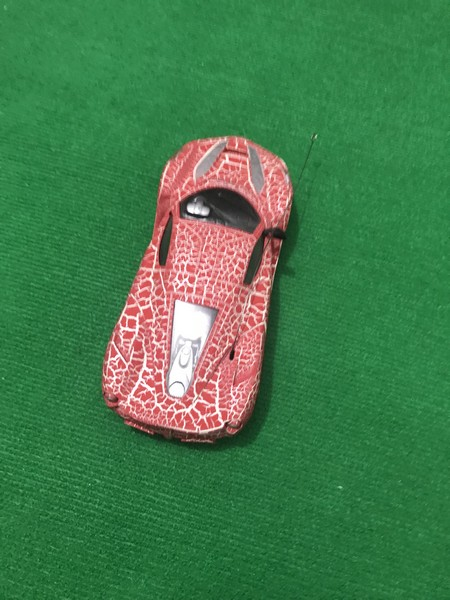RC: (99, 133, 297, 448)
